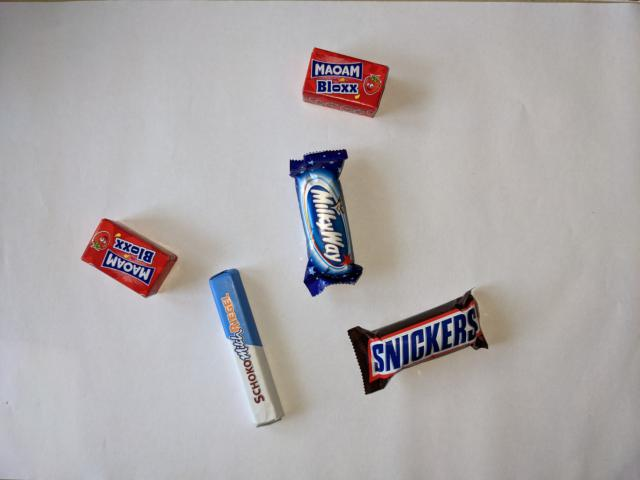MAOAM: (77, 214, 181, 300), (299, 44, 391, 120)
MilkyWay: (284, 144, 366, 299)
Schokoriegel: (205, 265, 289, 430)
Snickers: (344, 285, 491, 398)
